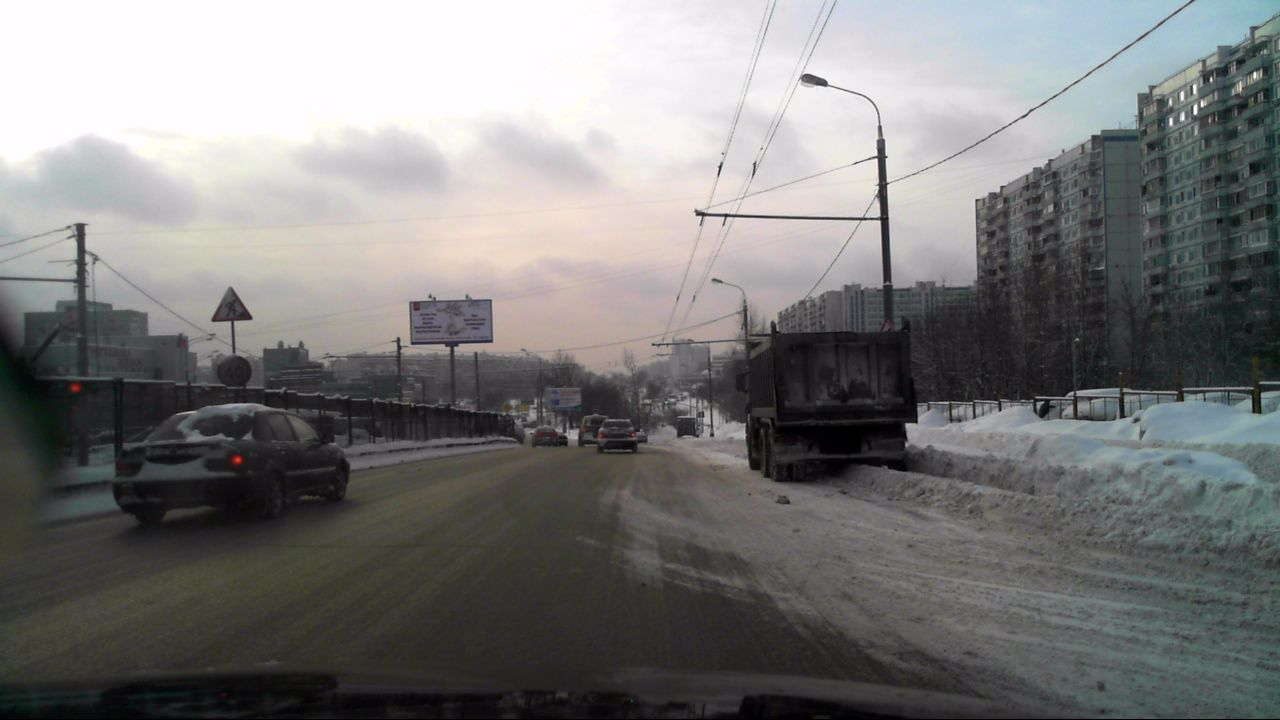speed_warning_40: (216, 353, 252, 389)
